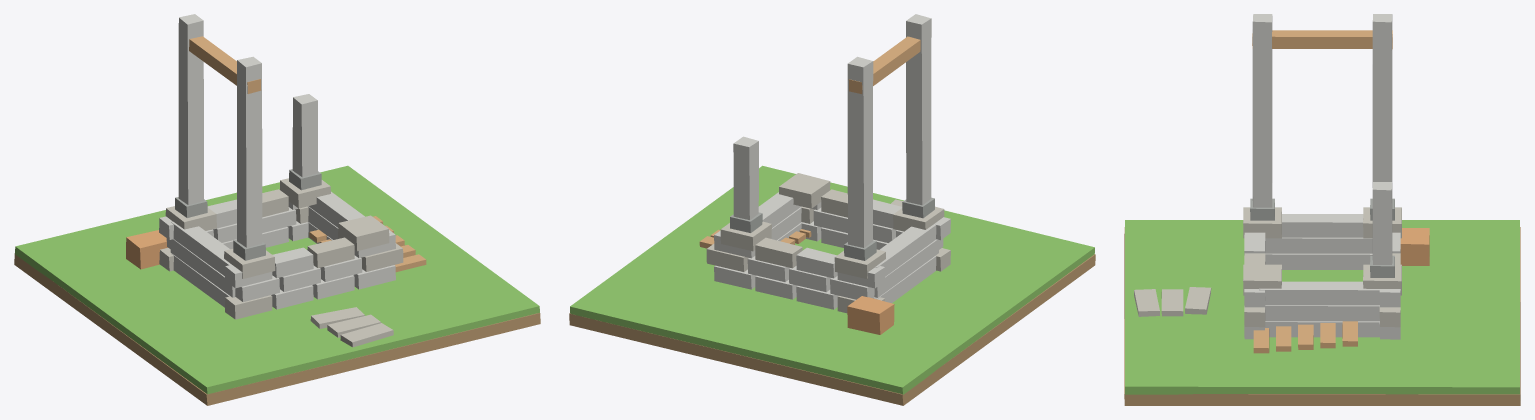
Rendered from tower_l04_construction_LOD2.glb.
The picture shows the model from 3 angles, left to right: view 1: azimuth 30°, elevation 25°; view 2: azimuth 150°, elevation 25°; view 3: azimuth 270°, elevation 25°; orthographic projection. The views are drawn at different scales.
Parts seen in each view (by area): view 1: tower_l04_grass_tile_tower_l04_construction_LOD2_tmp, tower_l04_earth_tile_tower_l04_construction_LOD2_tmp, post_-0.61_-0.54_tower_l04_construction_LOD2_tmp, post_-0.61_0.54_tower_l04_construction_LOD2_tmp, post_0.61_0.54_tower_l04_construction_LOD2_tmp, stone_return_2_-0.72_tower_l04_construction_LOD2_tmp, foot_0.61_-0.54_tower_l04_construction_LOD2_tmp, temporary_crossbar_tower_l04_construction_LOD2_tmp, unmounted_instrument_case_tower_l04_construction_LOD2_tmp, stone_course_2_-1_2_tower_l04_construction_LOD2_tmp, stone_return_1_-0.72_tower_l04_construction_LOD2_tmp, stone_return_2_0.72_tower_l04_construction_LOD2_tmp (+21 smaller); view 2: tower_l04_grass_tile_tower_l04_construction_LOD2_tmp, tower_l04_earth_tile_tower_l04_construction_LOD2_tmp, post_-0.61_0.54_tower_l04_construction_LOD2_tmp, post_-0.61_-0.54_tower_l04_construction_LOD2_tmp, post_0.61_0.54_tower_l04_construction_LOD2_tmp, unmounted_instrument_case_tower_l04_construction_LOD2_tmp, stone_return_2_-0.72_tower_l04_construction_LOD2_tmp, temporary_crossbar_tower_l04_construction_LOD2_tmp, foot_0.61_-0.54_tower_l04_construction_LOD2_tmp, stone_course_2_1_2_tower_l04_construction_LOD2_tmp, stone_return_1_-0.72_tower_l04_construction_LOD2_tmp, foot_0.61_0.54_tower_l04_construction_LOD2_tmp (+17 smaller); view 3: tower_l04_grass_tile_tower_l04_construction_LOD2_tmp, tower_l04_earth_tile_tower_l04_construction_LOD2_tmp, post_-0.61_-0.54_tower_l04_construction_LOD2_tmp, post_-0.61_0.54_tower_l04_construction_LOD2_tmp, stone_return_2_0.72_tower_l04_construction_LOD2_tmp, stone_return_2_-0.72_tower_l04_construction_LOD2_tmp, stone_return_1_0.72_tower_l04_construction_LOD2_tmp, temporary_crossbar_tower_l04_construction_LOD2_tmp, stone_return_1_-0.72_tower_l04_construction_LOD2_tmp, post_0.61_0.54_tower_l04_construction_LOD2_tmp, stone_return_0_-0.72_tower_l04_construction_LOD2_tmp, unmounted_instrument_case_tower_l04_construction_LOD2_tmp (+20 smaller).
Part boxes in pixels (x1=…): tower_l04_grass_tile_tower_l04_construction_LOD2_tmp: x1=15, y1=165, x2=539, y2=394; tower_l04_earth_tile_tower_l04_construction_LOD2_tmp: x1=14, y1=253, x2=540, y2=405; post_-0.61_-0.54_tower_l04_construction_LOD2_tmp: x1=237, y1=56, x2=262, y2=247; post_-0.61_0.54_tower_l04_construction_LOD2_tmp: x1=178, y1=14, x2=203, y2=204; post_0.61_0.54_tower_l04_construction_LOD2_tmp: x1=292, y1=94, x2=317, y2=177; stone_return_2_-0.72_tower_l04_construction_LOD2_tmp: x1=171, y1=221, x2=231, y2=276; foot_0.61_-0.54_tower_l04_construction_LOD2_tmp: x1=338, y1=215, x2=389, y2=251; temporary_crossbar_tower_l04_construction_LOD2_tmp: x1=189, y1=36, x2=261, y2=93; unmounted_instrument_case_tower_l04_construction_LOD2_tmp: x1=126, y1=230, x2=167, y2=269; stone_course_2_-1_2_tower_l04_construction_LOD2_tmp: x1=307, y1=237, x2=354, y2=267; stone_return_1_-0.72_tower_l04_construction_LOD2_tmp: x1=170, y1=239, x2=235, y2=297; stone_return_2_0.72_tower_l04_construction_LOD2_tmp: x1=308, y1=191, x2=364, y2=227; tower_l04_grass_tile_tower_l04_construction_LOD2_tmp: x1=570, y1=165, x2=1094, y2=394; tower_l04_earth_tile_tower_l04_construction_LOD2_tmp: x1=569, y1=254, x2=1095, y2=405; post_-0.61_0.54_tower_l04_construction_LOD2_tmp: x1=847, y1=56, x2=873, y2=247; post_-0.61_-0.54_tower_l04_construction_LOD2_tmp: x1=906, y1=14, x2=931, y2=205; post_0.61_0.54_tower_l04_construction_LOD2_tmp: x1=733, y1=136, x2=758, y2=219; unmounted_instrument_case_tower_l04_construction_LOD2_tmp: x1=847, y1=296, x2=894, y2=334; stone_return_2_-0.72_tower_l04_construction_LOD2_tmp: x1=875, y1=224, x2=936, y2=276; temporary_crossbar_tower_l04_construction_LOD2_tmp: x1=848, y1=36, x2=920, y2=93; foot_0.61_-0.54_tower_l04_construction_LOD2_tmp: x1=779, y1=173, x2=830, y2=208; stone_course_2_1_2_tower_l04_construction_LOD2_tmp: x1=755, y1=237, x2=802, y2=268; stone_return_1_-0.72_tower_l04_construction_LOD2_tmp: x1=874, y1=239, x2=939, y2=297; foot_0.61_0.54_tower_l04_construction_LOD2_tmp: x1=720, y1=221, x2=771, y2=251; tower_l04_grass_tile_tower_l04_construction_LOD2_tmp: x1=1125, y1=220, x2=1519, y2=394; tower_l04_earth_tile_tower_l04_construction_LOD2_tmp: x1=1124, y1=227, x2=1520, y2=405; post_-0.61_-0.54_tower_l04_construction_LOD2_tmp: x1=1252, y1=14, x2=1272, y2=207; post_-0.61_0.54_tower_l04_construction_LOD2_tmp: x1=1372, y1=14, x2=1392, y2=187; stone_return_2_0.72_tower_l04_construction_LOD2_tmp: x1=1259, y1=281, x2=1380, y2=305; stone_return_2_-0.72_tower_l04_construction_LOD2_tmp: x1=1282, y1=214, x2=1363, y2=237; stone_return_1_0.72_tower_l04_construction_LOD2_tmp: x1=1265, y1=305, x2=1379, y2=321; temporary_crossbar_tower_l04_construction_LOD2_tmp: x1=1252, y1=30, x2=1392, y2=49; stone_return_1_-0.72_tower_l04_construction_LOD2_tmp: x1=1265, y1=237, x2=1372, y2=253; post_0.61_0.54_tower_l04_construction_LOD2_tmp: x1=1372, y1=182, x2=1392, y2=264; stone_return_0_-0.72_tower_l04_construction_LOD2_tmp: x1=1265, y1=253, x2=1372, y2=269; unmounted_instrument_case_tower_l04_construction_LOD2_tmp: x1=1400, y1=228, x2=1429, y2=265.
Bounding box in the file's own units: 3.57 × 2.74 × 3.57.
